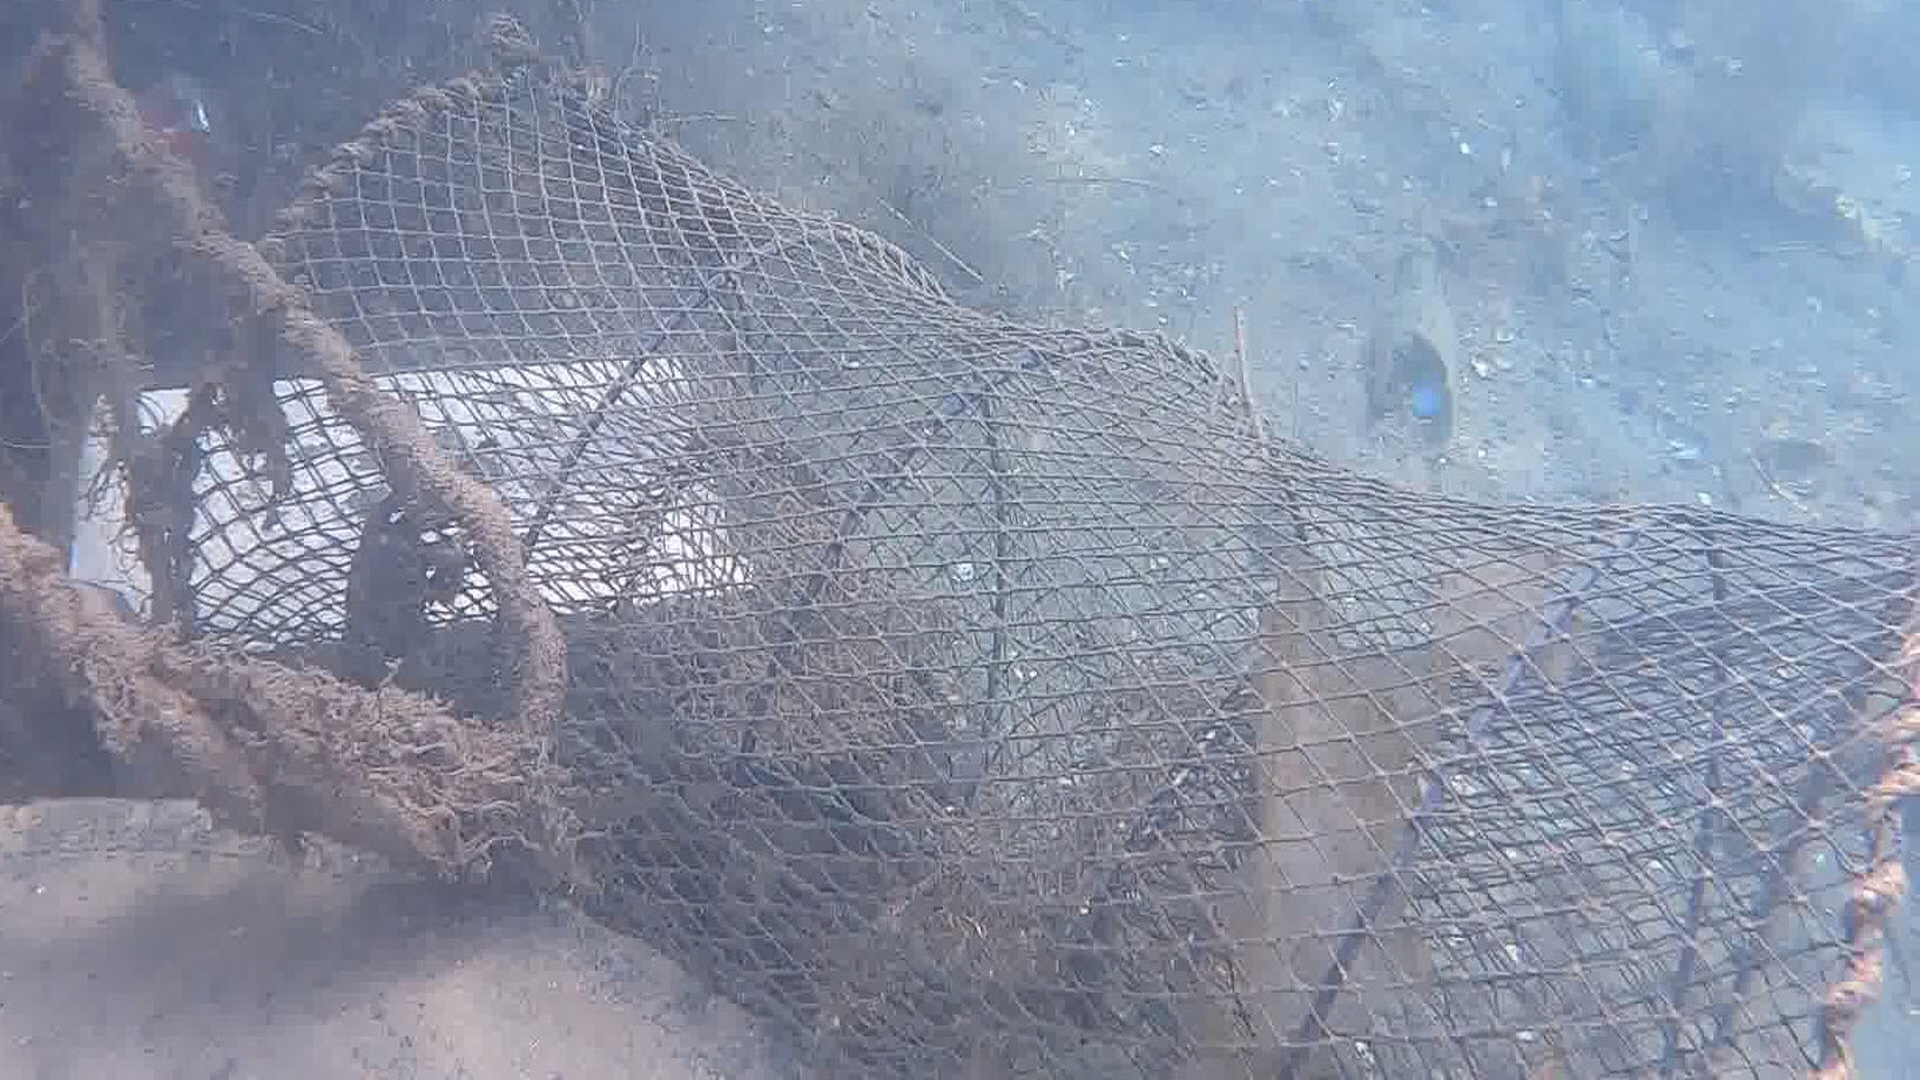spring fish trap: (146, 55, 1920, 1080)
